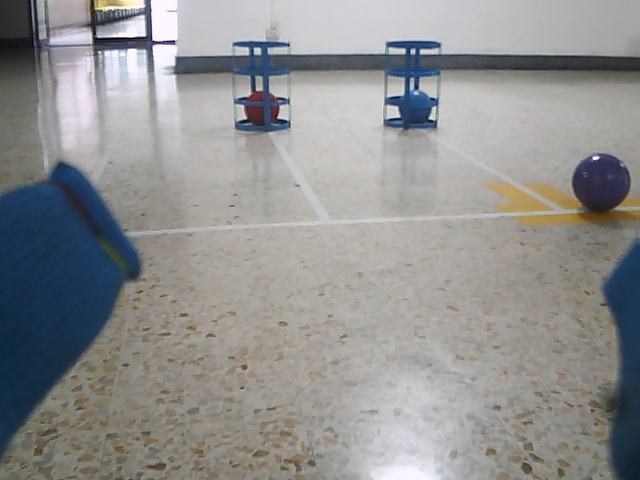Blue ball: (399, 90, 432, 123)
Cyro: (229, 38, 293, 134), (382, 38, 443, 131)
Purple ball: (573, 152, 633, 214)
Red ball: (244, 90, 279, 125)
